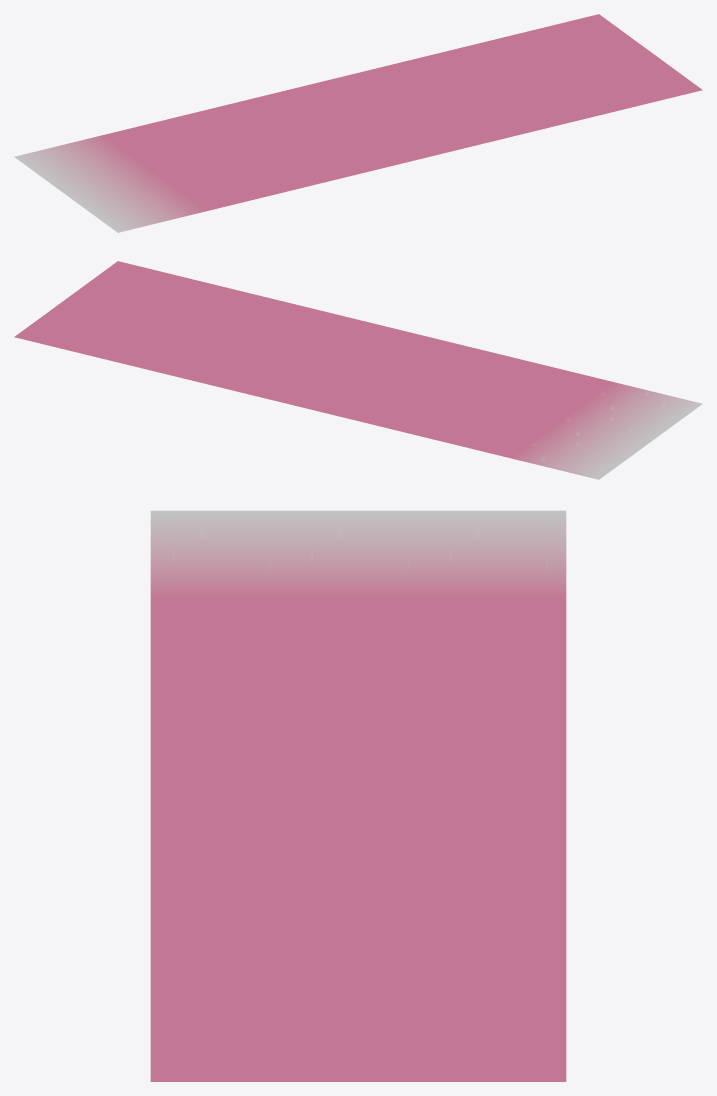
File: Side-forest_Flat_R.glb
3 views of the same model, one above another, from view 1: azimuth 30°, elevation 25°; view 2: azimuth 150°, elevation 25°; view 3: azimuth 270°, elevation 25° (orthographic). The views are drawn at different scales.
Parts seen in each view (by area): view 1: Side-forest_Flat_R; view 2: Side-forest_Flat_R; view 3: Side-forest_Flat_R.
Part boxes in pixels (x1,y1,x2,y2): Side-forest_Flat_R: [14, 14, 702, 232]; Side-forest_Flat_R: [14, 261, 702, 479]; Side-forest_Flat_R: [150, 510, 566, 1081].
Bounding box in the file's own units: 58.5 × 0.7778 × 18.
